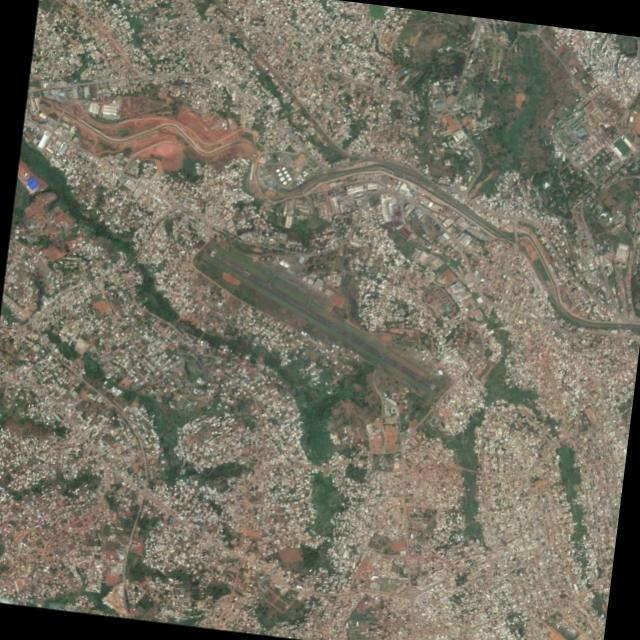storage-tank: (274, 168, 279, 173), (278, 176, 283, 181), (282, 169, 286, 173), (286, 177, 290, 181), (276, 172, 280, 176), (281, 181, 285, 185), (283, 174, 287, 177), (280, 167, 283, 170)
